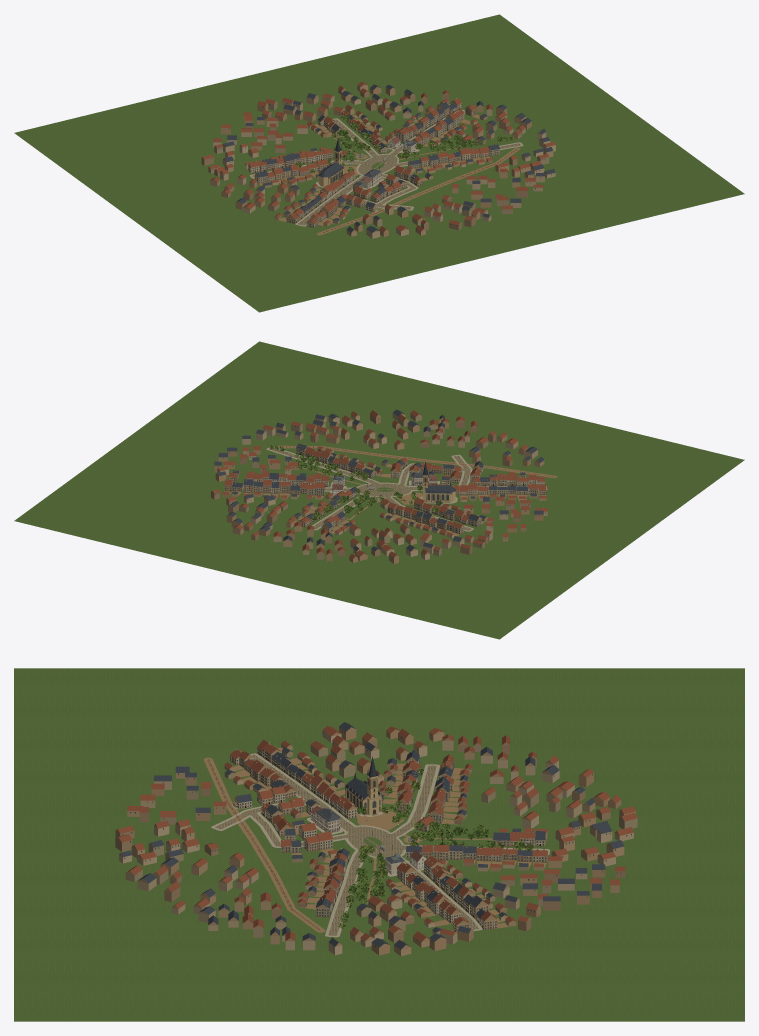
Rendered from westerntor.glb.
3 views of the same model, one above another, from view 1: azimuth 30°, elevation 25°; view 2: azimuth 150°, elevation 25°; view 3: azimuth 270°, elevation 25° (orthographic). The views are drawn at different scales.
Visible parts, largest first — view 1: Stadt; view 2: Stadt; view 3: Stadt.
Part boxes in pixels (<box>): Stadt: <box>14,14,744,312</box>; Stadt: <box>14,341,744,639</box>; Stadt: <box>14,668,744,1021</box>.
Size of the model in its own units: 800 by 61.45 by 700.
Materials: 121 (50 with a texture image).
